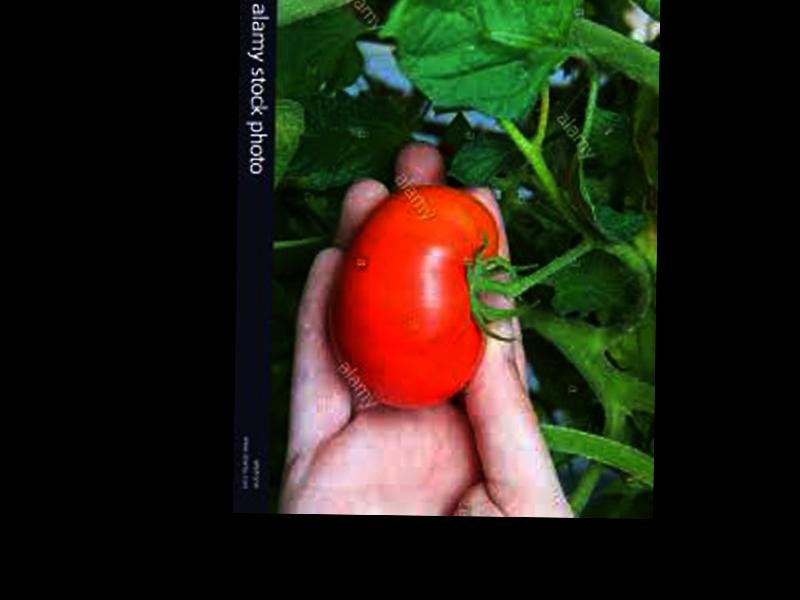Tomato: (333, 184, 499, 411)
